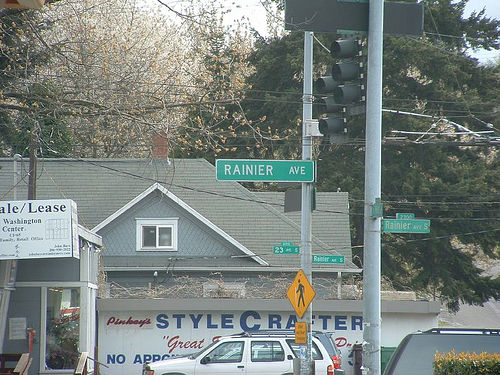Car: (142, 332, 340, 375)
Pedestrian: (285, 265, 317, 322)
Traffic Light: (325, 28, 374, 156)
